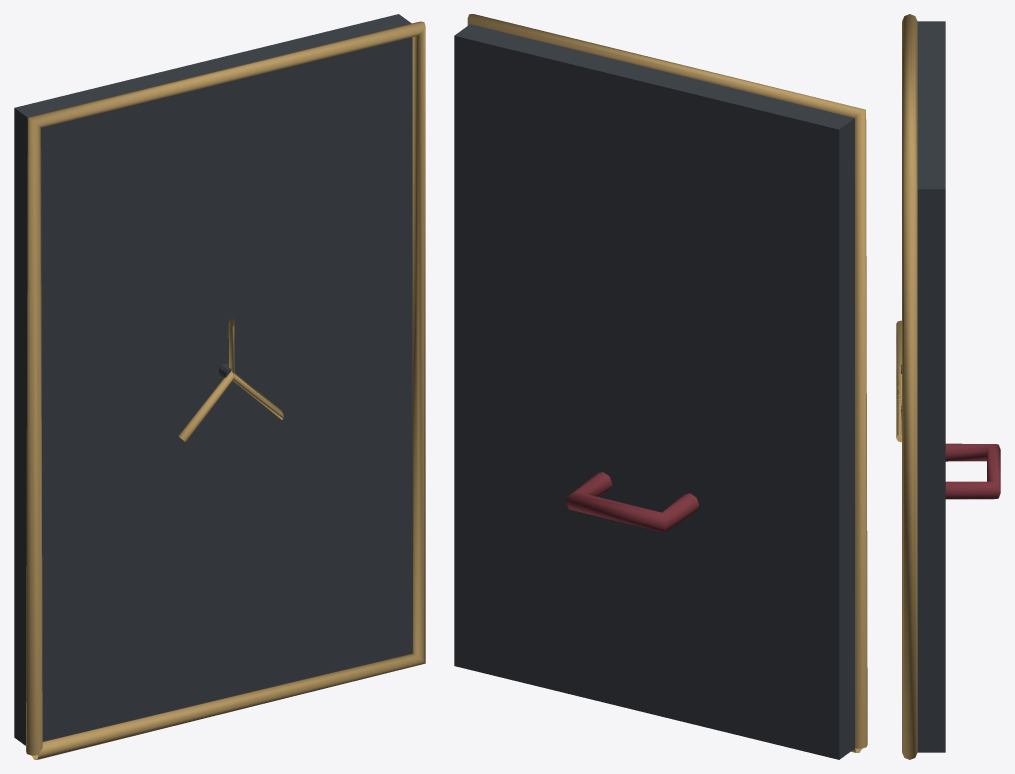
3 renders of one model, left to right at view 1: azimuth 30°, elevation 25°; view 2: azimuth 150°, elevation 25°; view 3: azimuth 270°, elevation 25°, orthographic. The views are drawn at different scales.
Parts seen in each view (by area): view 1: TV-083 Buckler Mercy; view 2: TV-083 Buckler Mercy; view 3: TV-083 Buckler Mercy.
Part boxes in pixels (left/top/right/bottom): TV-083 Buckler Mercy: left=14, top=14, right=425, bottom=759; TV-083 Buckler Mercy: left=454, top=14, right=867, bottom=759; TV-083 Buckler Mercy: left=896, top=14, right=1000, bottom=759.
Bounding box in the file's own units: 0.6405 × 0.9905 × 0.1626.
